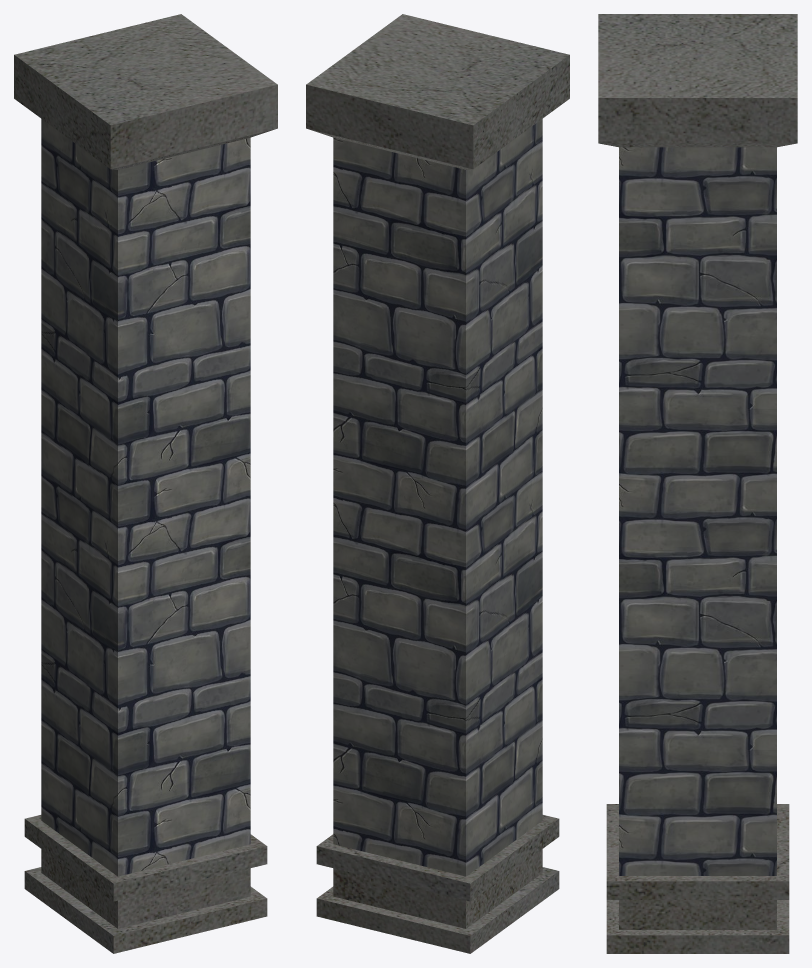
File: bigPillar.FBX
3 views of the same model, side by side, from view 1: azimuth 30°, elevation 25°; view 2: azimuth 150°, elevation 25°; view 3: azimuth 270°, elevation 25° (orthographic). The views are drawn at different scales.
Parts seen in each view (by area): view 1: pillar_LP008, pillar_LP007; view 2: pillar_LP008, pillar_LP007; view 3: pillar_LP008, pillar_LP007.
Part boxes in pixels (<box>): pillar_LP008: <box>41,119,250,876</box>; pillar_LP007: <box>14,14,277,953</box>; pillar_LP008: <box>333,119,542,876</box>; pillar_LP007: <box>306,14,569,953</box>; pillar_LP008: <box>619,147,776,875</box>; pillar_LP007: <box>598,14,797,953</box>.
Bounding box in the file's own units: 15.45 × 73.59 × 15.45.
2 materials, 2 textured.
